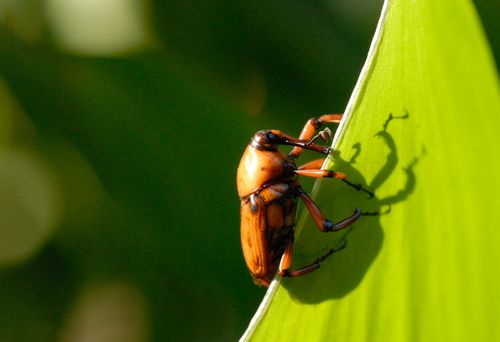Curculionidae: (234, 112, 391, 287)
